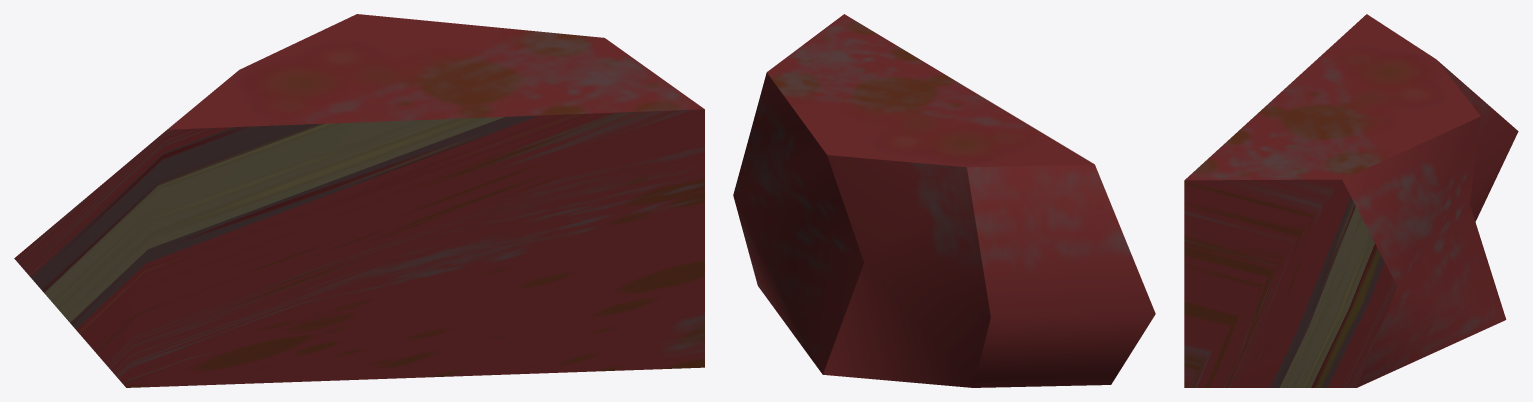
File: ishi_03_10_10.fbx
The picture shows the model from 3 angles, left to right: view 1: azimuth 30°, elevation 25°; view 2: azimuth 150°, elevation 25°; view 3: azimuth 270°, elevation 25°; orthographic projection. The views are drawn at different scales.
Visible parts, largest first — view 1: polySurface43; view 2: polySurface43; view 3: polySurface43.
Boxes of the visible parts, x1,y1,x2,y2 form: polySurface43: (14, 14, 704, 387); polySurface43: (733, 14, 1155, 387); polySurface43: (1184, 14, 1518, 387).
Size of the model in its own units: 11.31 by 5.14 by 7.49.
1 material, 1 textured.
